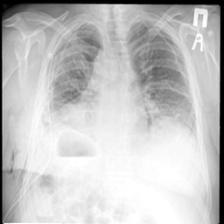tuberculosis: (30, 15, 203, 179)
